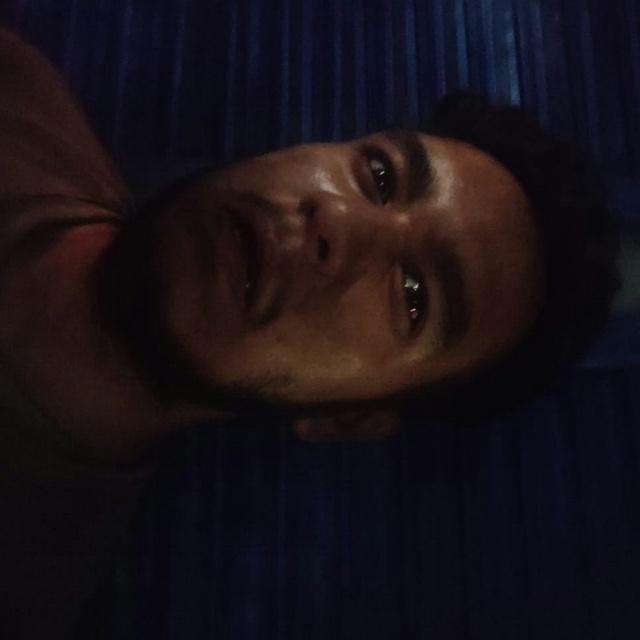Disgust: (115, 59, 556, 435)
